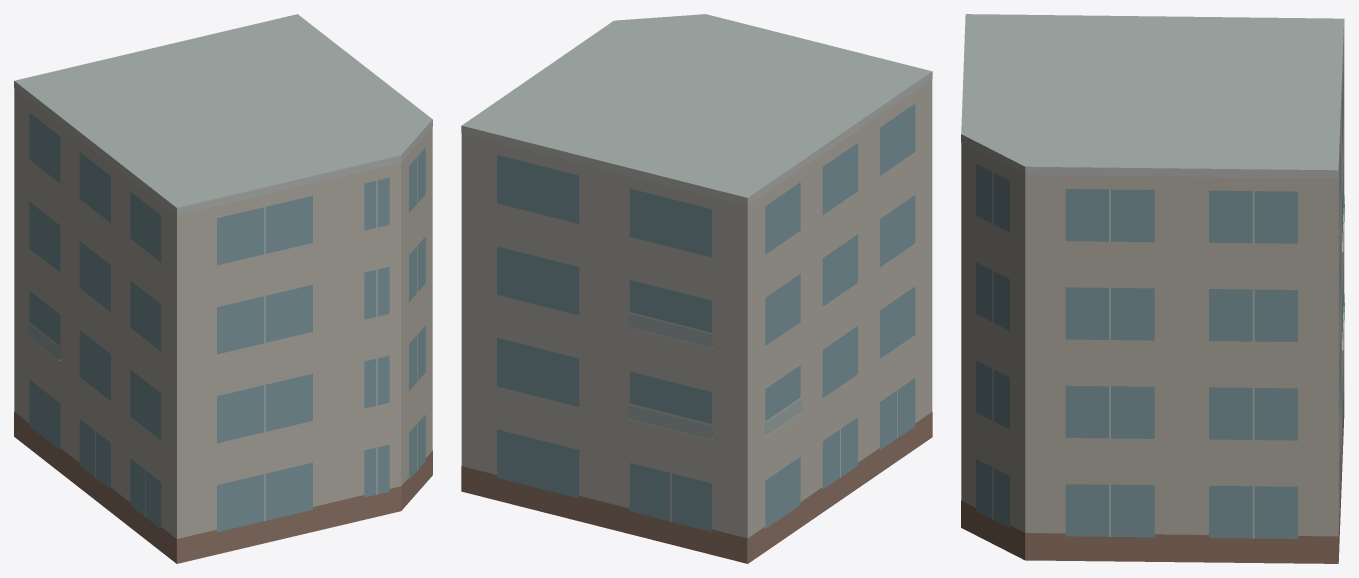
File: survey-upis-32631368.glb
3 views of the same model, side by side, from view 1: azimuth 30°, elevation 25°; view 2: azimuth 150°, elevation 25°; view 3: azimuth 270°, elevation 25° (orthographic). The views are drawn at different scales.
Visible parts, largest first — view 1: survey-upis-32631368.tmp; view 2: survey-upis-32631368.tmp; view 3: survey-upis-32631368.tmp.
Part boxes in pixels (x1,y1,x2,y2): survey-upis-32631368.tmp: [14, 14, 432, 563]; survey-upis-32631368.tmp: [461, 14, 932, 563]; survey-upis-32631368.tmp: [961, 14, 1344, 563].
Size of the model in its own units: 9.88 by 11.6 by 10.26.
